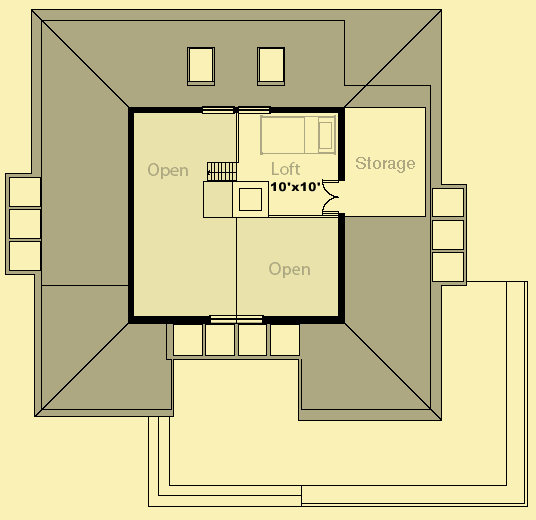bedroom has a single bed: (237, 104, 341, 217)
